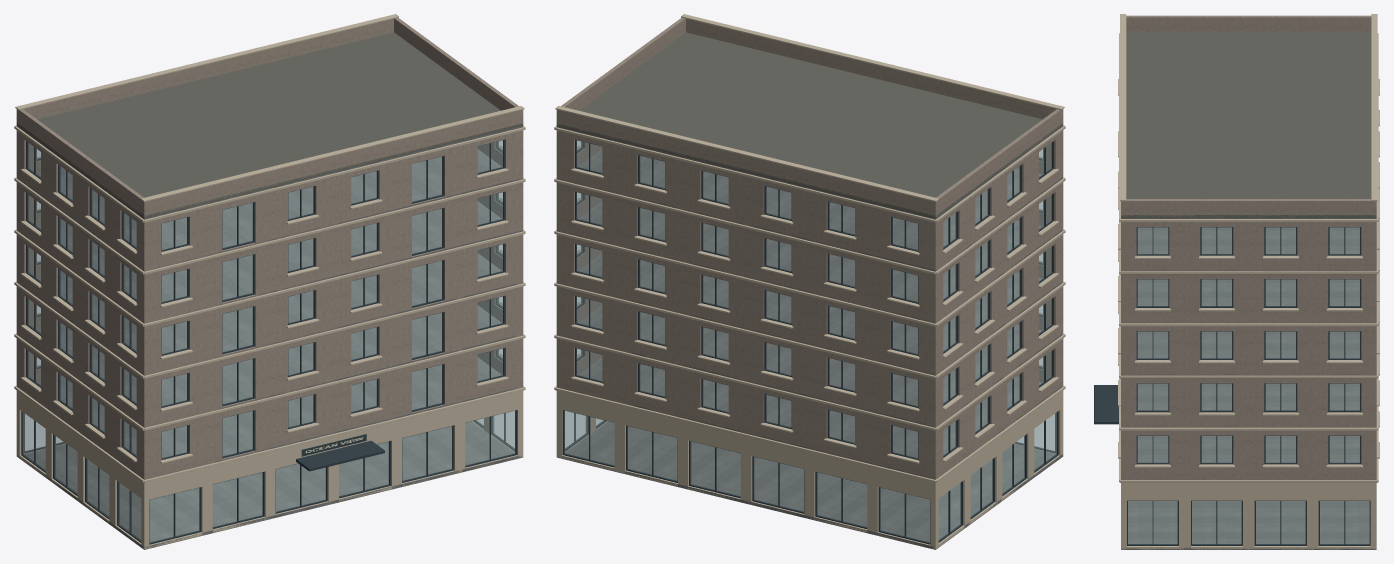
File: ocean-view-v2-lod1.glb
The picture shows the model from 3 angles, left to right: view 1: azimuth 30°, elevation 25°; view 2: azimuth 150°, elevation 25°; view 3: azimuth 270°, elevation 25°; orthographic projection.
Visible parts, largest first — view 1: Plaster (×11), Concrete, Recessed_clear_glass (×13), Roof_membrane, Limestone (×13), Powder_coated_aluminium (×13); view 2: Plaster (×11), Concrete, Recessed_clear_glass (×13), Roof_membrane, Limestone (×13), Powder_coated_aluminium (×12); view 3: Plaster (×6), Roof_membrane, Concrete, Recessed_clear_glass (×6), Limestone (×10), Powder_coated_aluminium (×7).
Boxes of the visible parts, x1,y1,x2,y2 form: Plaster (×11): (16,17,523,479); Concrete: (16,125,523,549); Recessed_clear_glass (×13): (23,140,515,542); Roof_membrane: (16,32,523,218); Limestone (×13): (14,14,525,549); Powder_coated_aluminium (×13): (21,139,517,544); Plaster (×11): (556,17,1063,479); Concrete: (556,125,1063,549); Recessed_clear_glass (×13): (564,140,1056,542); Roof_membrane: (556,32,1063,218); Limestone (×13): (554,14,1065,549); Powder_coated_aluminium (×12): (562,139,1058,544); Plaster (×6): (1121,15,1376,479); Roof_membrane: (1121,31,1376,218); Concrete: (1121,217,1376,549); Recessed_clear_glass (×6): (1128,227,1369,543); Limestone (×10): (1119,14,1379,549); Powder_coated_aluminium (×7): (1094,227,1370,545).
Size of the model in its own units: 24.34 by 21.16 by 15.64.
Materials: 7 (3 with a texture image).
